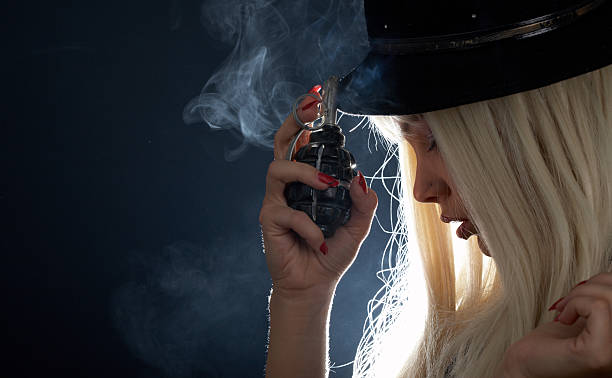e1: (293, 83, 361, 234)
